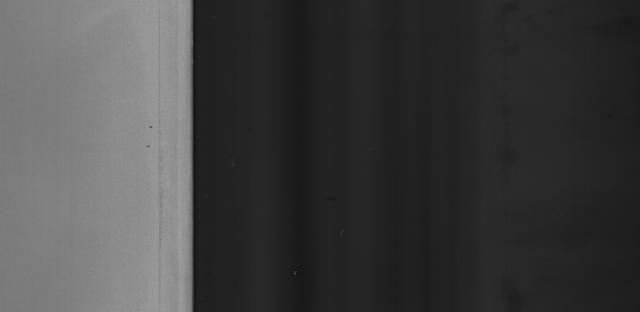inclusion: (146, 120, 155, 134), (142, 142, 154, 152)
